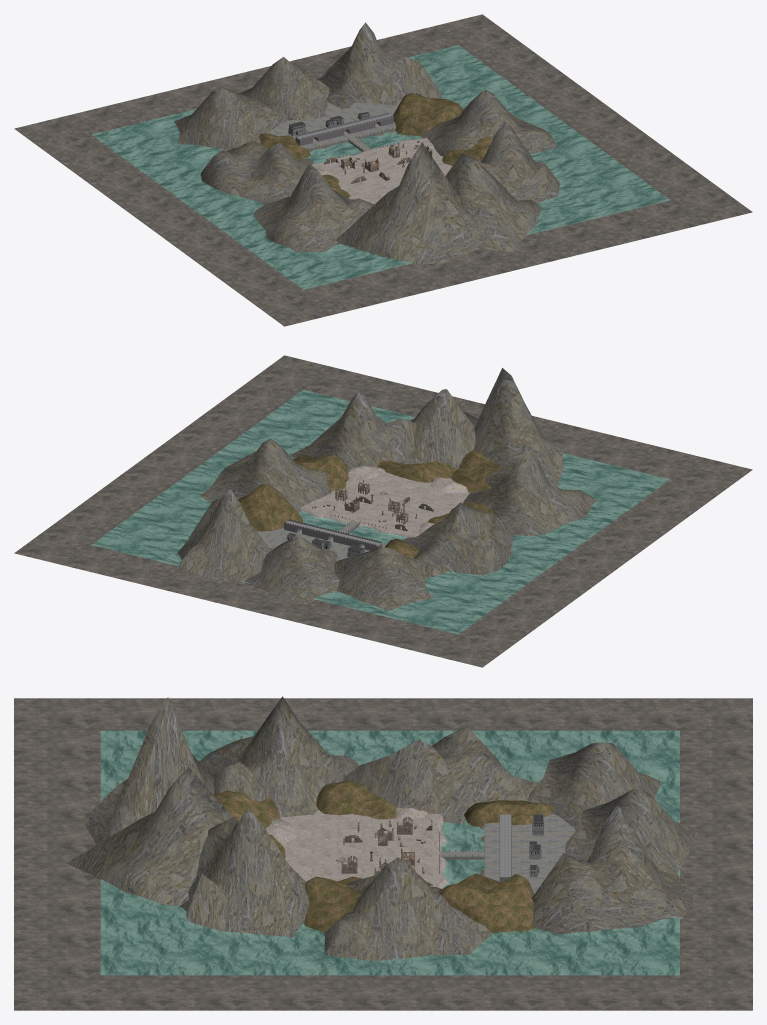
The model's file is qianxian_map.fbx.
3 views of the same model, one above another, from view 1: azimuth 30°, elevation 25°; view 2: azimuth 150°, elevation 25°; view 3: azimuth 270°, elevation 25° (orthographic). The views are drawn at different scales.
Visible parts, largest first — view 1: qianxian_map; view 2: qianxian_map; view 3: qianxian_map.
Part boxes in pixels (bbox=[...]): qianxian_map: bbox=[14, 14, 752, 326]; qianxian_map: bbox=[14, 355, 752, 667]; qianxian_map: bbox=[14, 696, 752, 1010].
Bounding box in the file's own units: 398 × 78.69 × 398.
19 materials, 18 textured.
